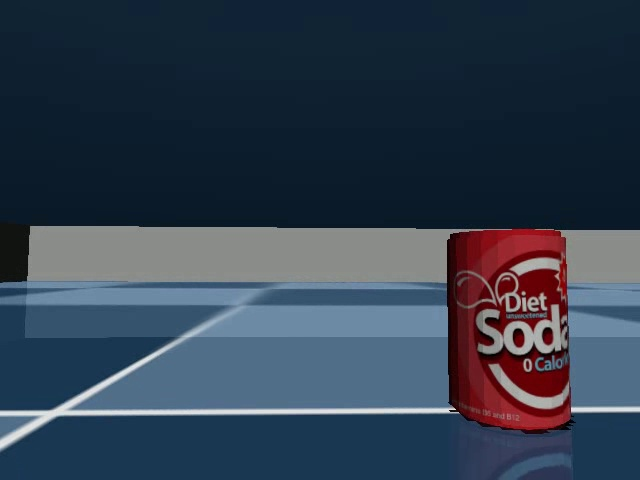can: (434, 217, 582, 442)
